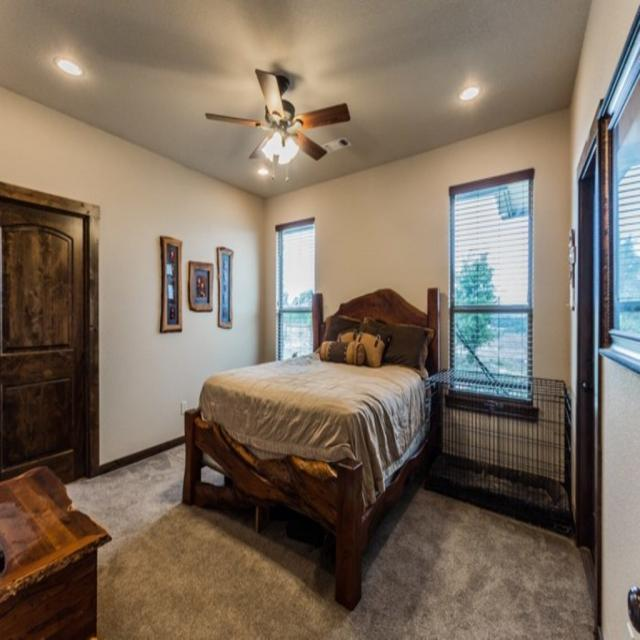fan_off: (207, 68, 352, 163)
